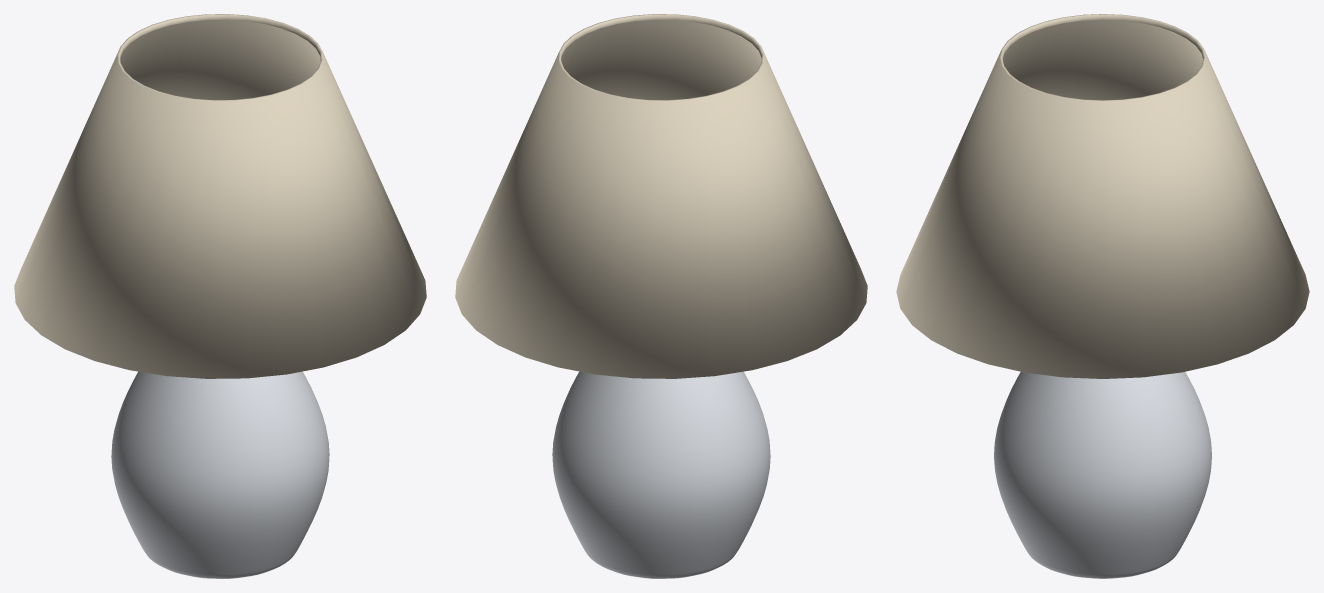
Rendered from base_lamp.gltf.
The picture shows the model from 3 angles, left to right: view 1: azimuth 30°, elevation 25°; view 2: azimuth 150°, elevation 25°; view 3: azimuth 270°, elevation 25°; orthographic projection.
Parts seen in each view (by area): view 1: Lampshade, Lamp_base; view 2: Lampshade, Lamp_base; view 3: Lampshade, Lamp_base.
Boxes of the visible parts, <box> form: Lampshade: <box>14,14,426,378</box>; Lamp_base: <box>111,371,329,578</box>; Lampshade: <box>455,14,867,378</box>; Lamp_base: <box>552,371,770,578</box>; Lampshade: <box>896,14,1309,378</box>; Lamp_base: <box>994,372,1211,578</box>.
Bounding box in the file's own units: 0.9976 × 1.31 × 0.9976.
